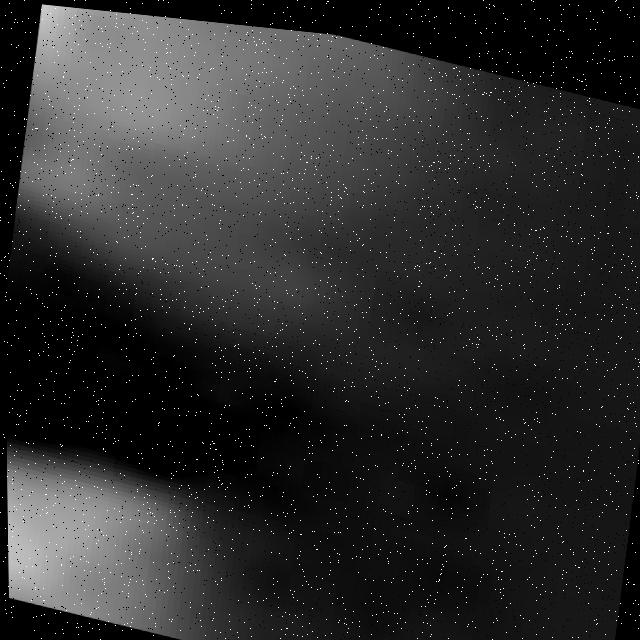person: (22, 3, 505, 253), (6, 431, 208, 640)
